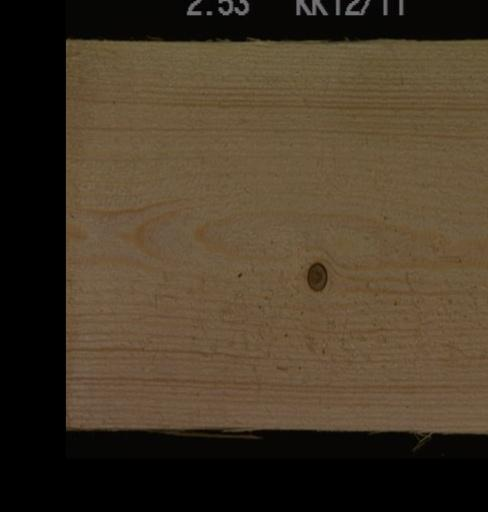dry_knot: (302, 258, 328, 293)
